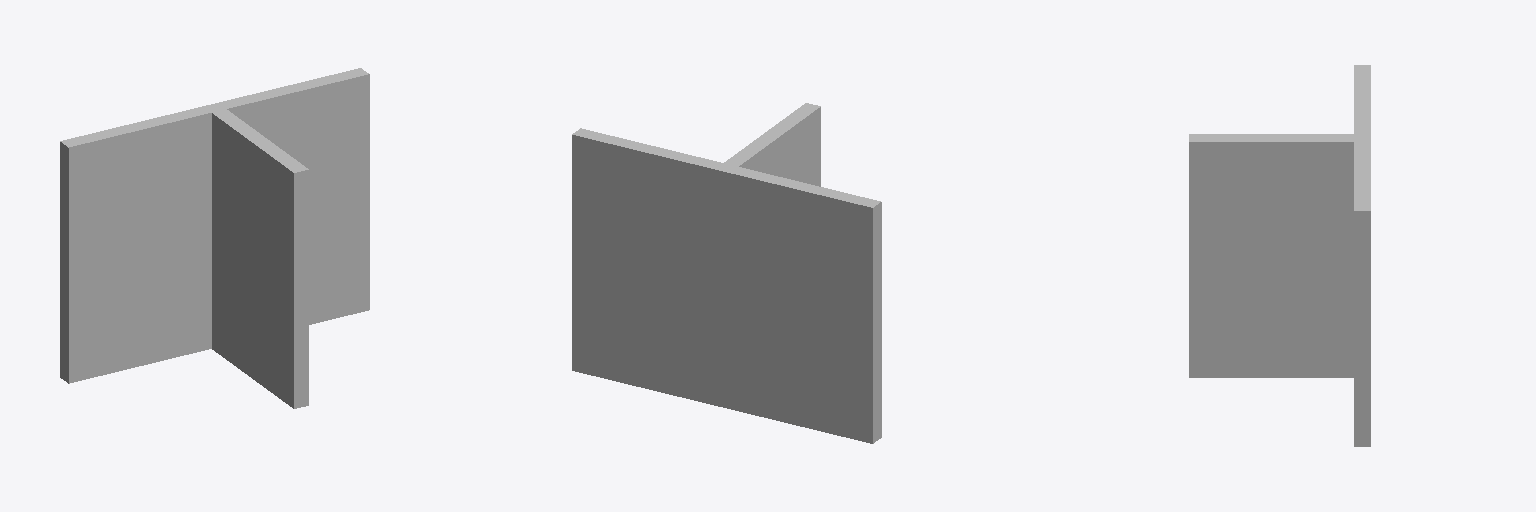
The model's file is wall_t_junction.obj.
3 views of the same model, side by side, from view 1: azimuth 30°, elevation 25°; view 2: azimuth 150°, elevation 25°; view 3: azimuth 270°, elevation 25° (orthographic).
Parts seen in each view (by area): view 1: Wall_T_Junction; view 2: Wall_T_Junction; view 3: Wall_T_Junction.
Boxes of the visible parts, x1=… form: Wall_T_Junction: x1=60, y1=68, x2=369, y2=408; Wall_T_Junction: x1=572, y1=103, x2=881, y2=443; Wall_T_Junction: x1=1189, y1=65, x2=1370, y2=446.
Bounding box in the file's own units: 4 × 3 × 2.1.